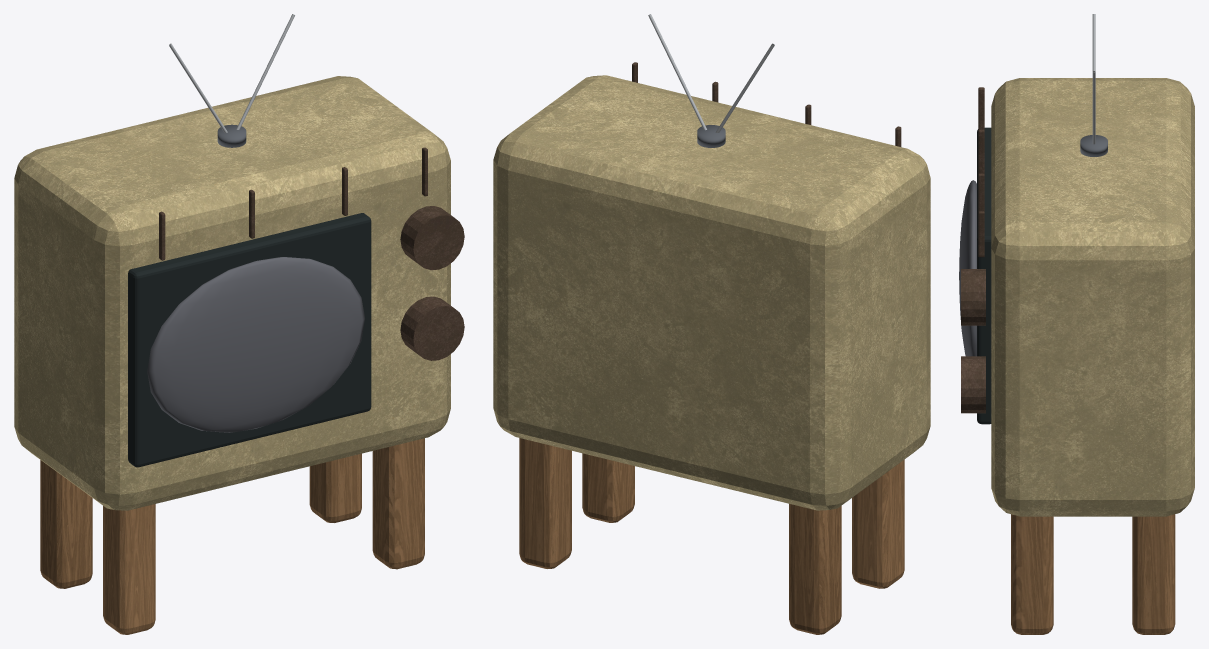
The model's file is hiperreal-hd.glb.
3 renders of one model, left to right at view 1: azimuth 30°, elevation 25°; view 2: azimuth 150°, elevation 25°; view 3: azimuth 270°, elevation 25°, orthographic. The views are drawn at different scales.
Visible parts, largest first — view 1: Stone TV cabinet, Curved CRT, CRT bezel, Leg.001, Leg.003, Leg, Tuning dial, Tuning dial.001, Leg.002; view 2: Stone TV cabinet, Leg, Leg.002, Leg.001, Leg.003; view 3: Stone TV cabinet, Leg.002, Leg.003, CRT bezel, Curved CRT, Tuning dial, Tuning dial.001, Hiperreal base antena.
Part boxes in pixels (left/top/right/bottom): Stone TV cabinet: left=14, top=76, right=450, bottom=510; Curved CRT: left=147, top=257, right=364, bottom=432; CRT bezel: left=128, top=213, right=371, bottom=467; Leg.001: left=103, top=504, right=155, bottom=634; Leg.003: left=372, top=438, right=424, bottom=569; Leg: left=40, top=460, right=92, bottom=588; Tuning dial: left=400, top=296, right=464, bottom=360; Tuning dial.001: left=400, top=206, right=464, bottom=270; Leg.002: left=309, top=453, right=361, bottom=522; Stone TV cabinet: left=493, top=75, right=930, bottom=510; Leg: left=789, top=504, right=841, bottom=634; Leg.002: left=519, top=438, right=571, bottom=568; Leg.001: left=852, top=459, right=904, bottom=588; Leg.003: left=582, top=453, right=634, bottom=522; Stone TV cabinet: left=991, top=78, right=1194, bottom=516; Leg.002: left=1132, top=514, right=1175, bottom=634; Leg.003: left=1011, top=514, right=1053, bottom=634; CRT bezel: left=977, top=127, right=991, bottom=424; Curved CRT: left=959, top=180, right=976, bottom=356; Tuning dial: left=961, top=356, right=985, bottom=413; Tuning dial.001: left=961, top=269, right=985, bottom=325; Hiperreal base antena: left=1080, top=135, right=1107, bottom=156.
Bounding box in the file's own units: 1 × 1.47 × 0.6.
7 materials, 3 textured.
